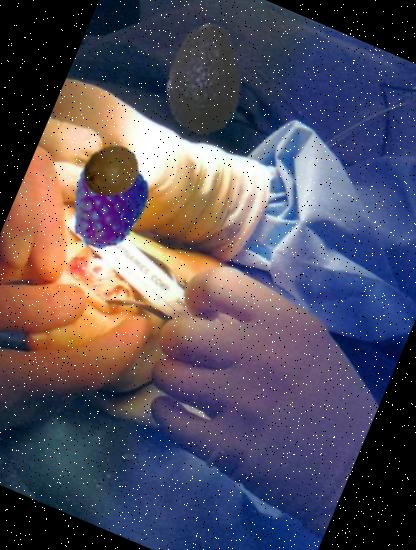Avocado: (130, 6, 278, 153)
Kiwi: (72, 134, 148, 210)
Raspberry: (43, 142, 166, 264)
